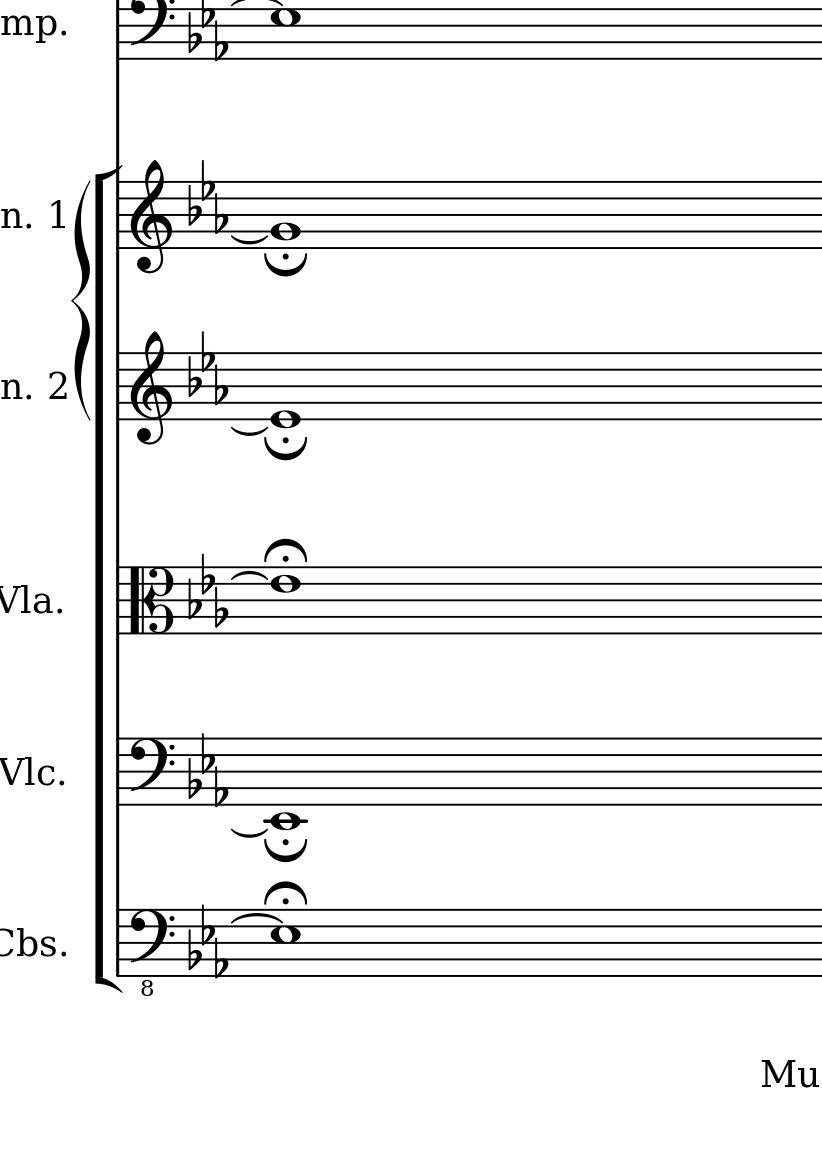1_-2: (265, 732, 306, 834)
1_0: (268, 349, 303, 432)
1_2: (268, 179, 304, 250)
1_5: (269, 909, 303, 980)
1_6: (269, 565, 302, 637)
Brace: (70, 175, 90, 418)
Bracke: (90, 163, 126, 993)
Cclef: (127, 566, 176, 636)
E_F: (185, 327, 231, 406), (184, 157, 231, 234), (185, 731, 231, 808), (184, 904, 231, 979), (184, 550, 227, 630), (185, 1, 231, 62)
Fclef: (128, 736, 176, 807), (128, 1, 177, 62)
Fermata_above: (264, 834, 309, 865), (262, 434, 310, 462), (263, 536, 311, 563), (263, 252, 312, 278), (262, 882, 311, 906)
Gclef: (129, 158, 174, 276), (129, 331, 174, 446)
Lower_Fclef: (127, 906, 177, 997)
Single_barline: (111, 181, 129, 251), (109, 740, 127, 805), (110, 910, 127, 978), (109, 568, 126, 634), (110, 355, 126, 420), (110, 2, 126, 60)
Slur: (225, 820, 273, 838), (232, 910, 280, 927), (226, 231, 270, 244), (227, 422, 271, 435), (228, 567, 270, 580)
Vla: (1, 580, 55, 622), (1, 751, 55, 793)
